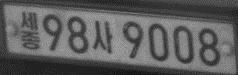0: (147, 22, 169, 61), (172, 24, 193, 64)
8: (198, 26, 221, 67), (66, 15, 88, 53)
9: (121, 20, 144, 57), (42, 13, 63, 51)
사: (92, 19, 113, 53)
세종_V: (20, 10, 41, 50)
